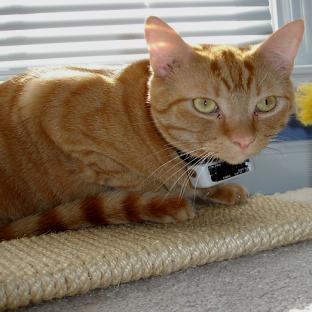Animal: (0, 16, 303, 241)
